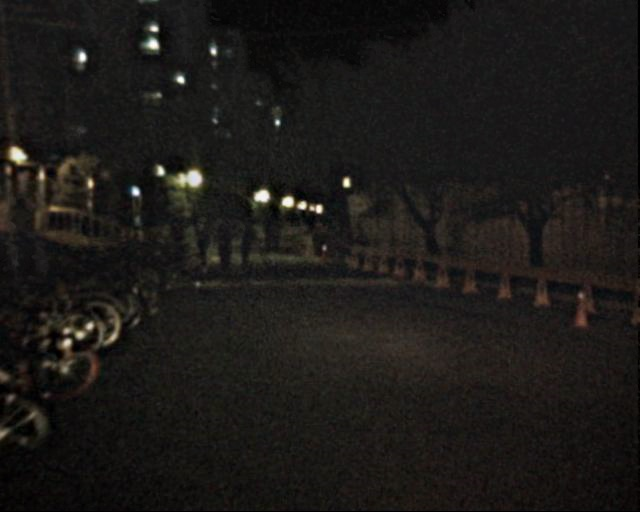person: (0, 217, 27, 282), (29, 222, 51, 275), (193, 212, 214, 263), (168, 213, 189, 263), (351, 223, 371, 271), (237, 220, 256, 267), (217, 224, 235, 268), (211, 212, 227, 251), (264, 219, 281, 246)
